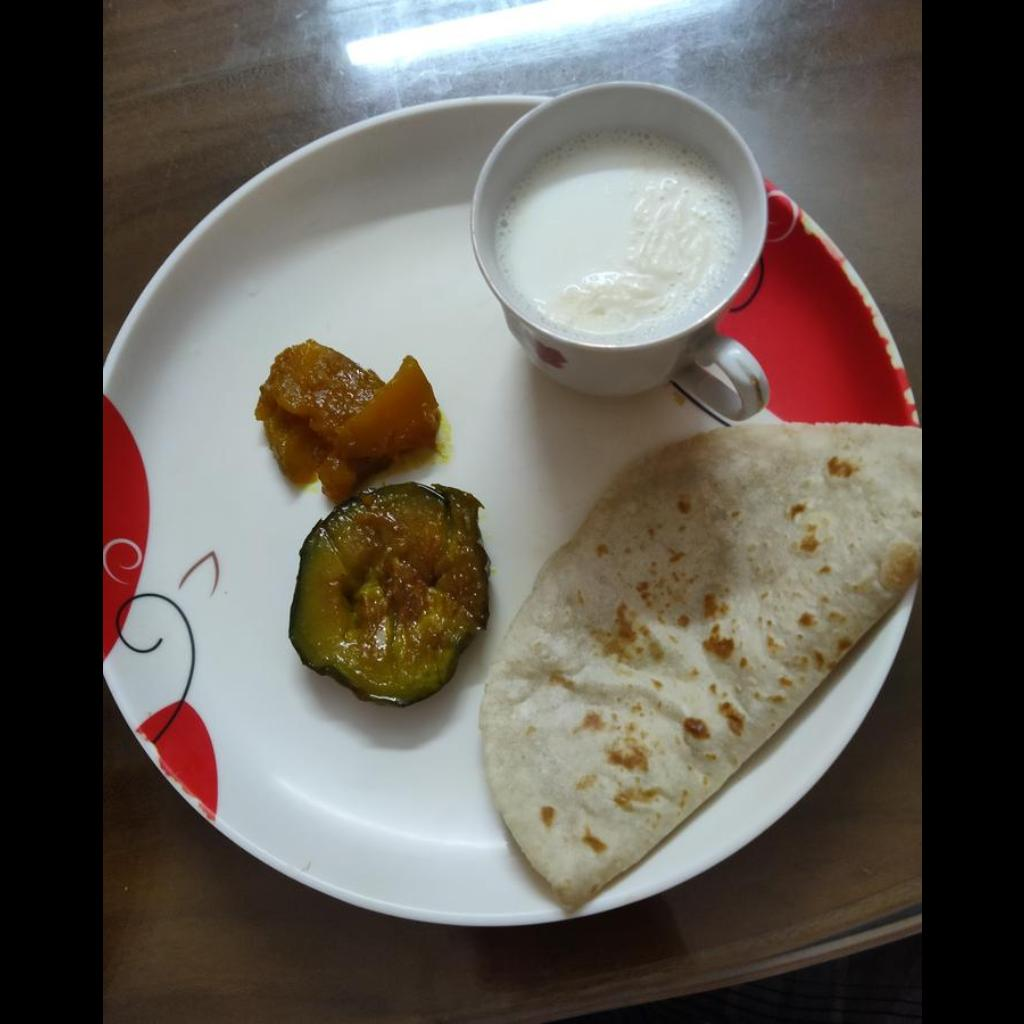achar: (254, 340, 439, 503)
begun-vaji: (291, 485, 496, 702)
milk: (498, 132, 733, 334)
ruti: (480, 421, 919, 914)
